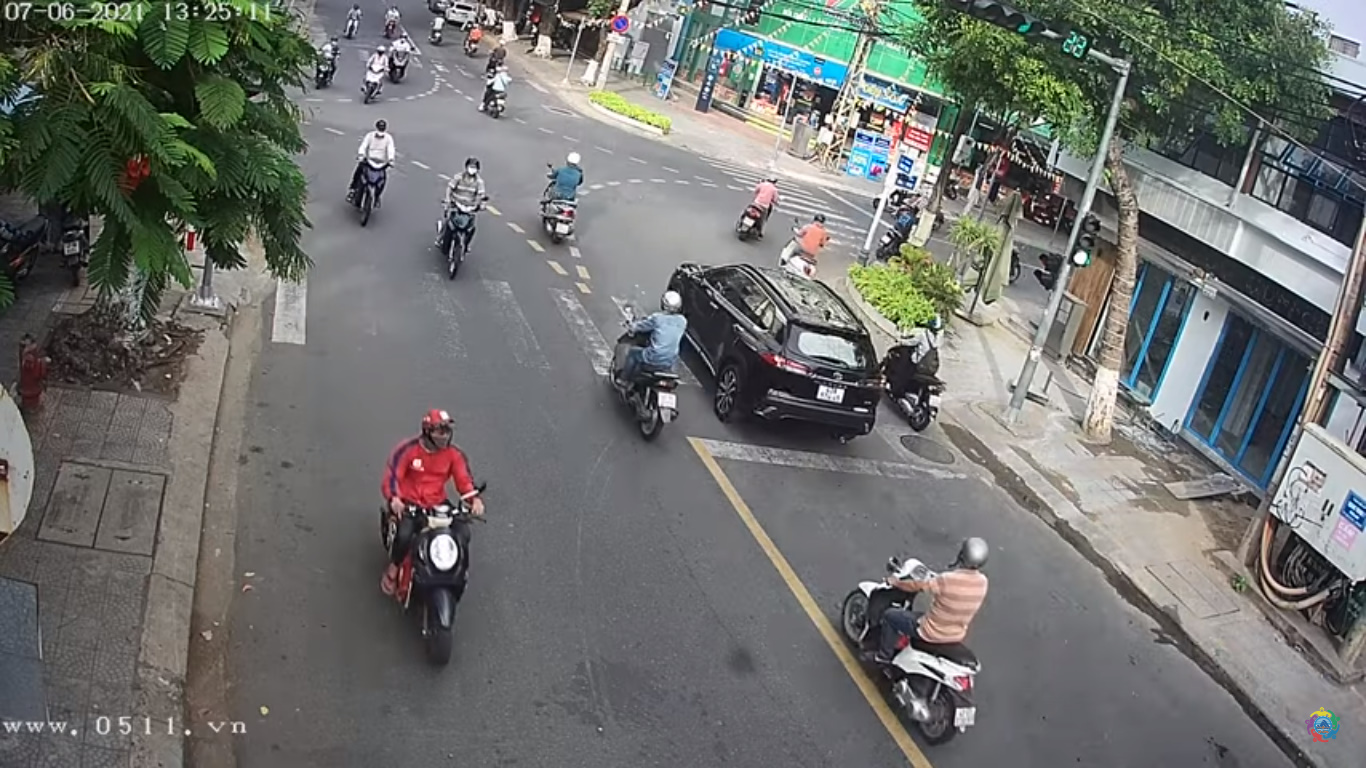motorbike: (379, 409, 502, 670), (440, 152, 490, 278), (347, 117, 401, 226)
